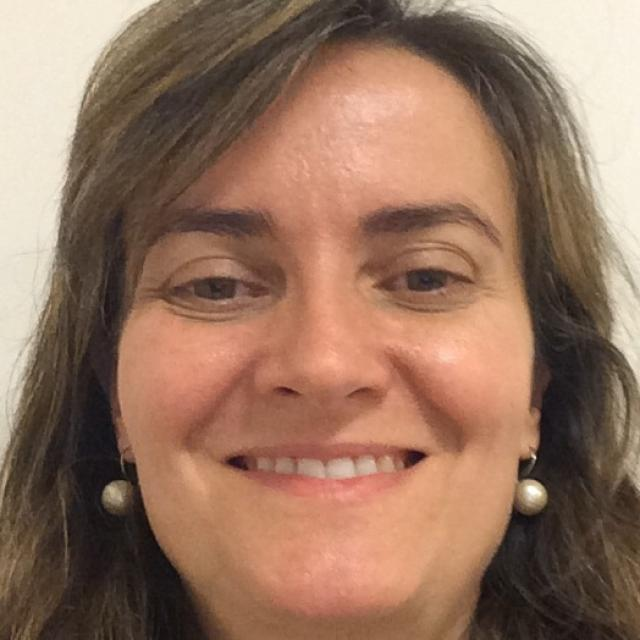Normal: (119, 28, 543, 639)
